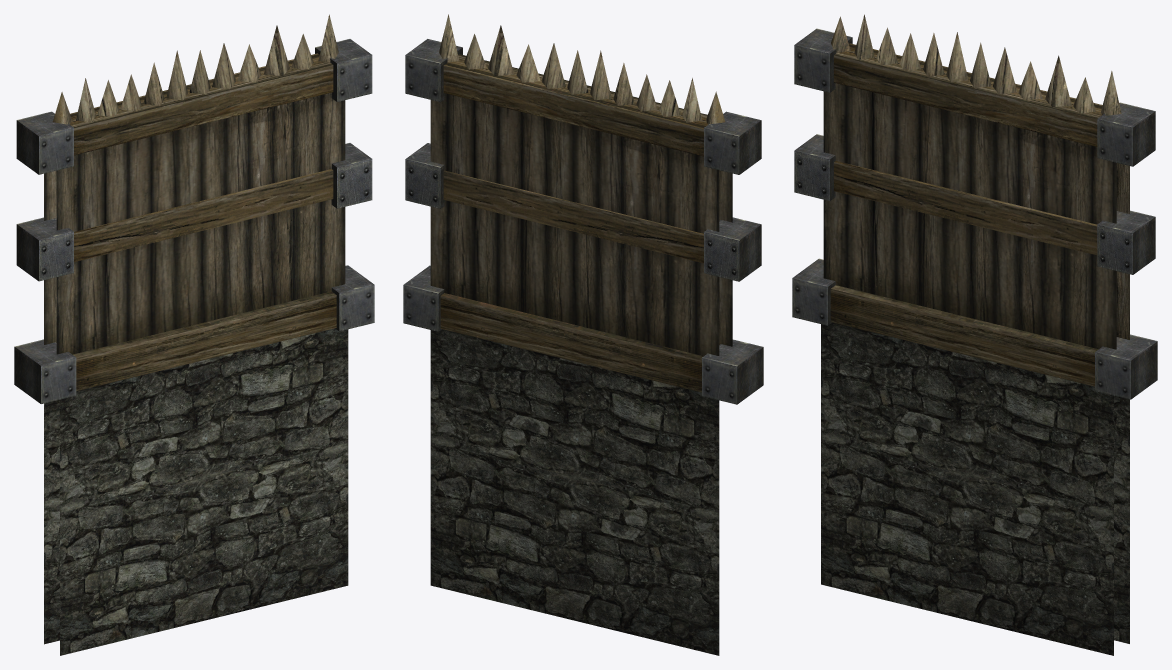
Rendered from fortms_fence_body01.fbx.
3 views of the same model, side by side, from view 1: azimuth 30°, elevation 25°; view 2: azimuth 150°, elevation 25°; view 3: azimuth 330°, elevation 25° (orthographic).
Parts seen in each view (by area): view 1: fortMS_fence_body01; view 2: fortMS_fence_body01; view 3: fortMS_fence_body01.
Part boxes in pixels (box(x1,y1,x2,y2)): fortMS_fence_body01: box(14, 14, 374, 655); fortMS_fence_body01: box(403, 14, 763, 655); fortMS_fence_body01: box(792, 14, 1157, 655).
Size of the model in its own units: 6.82 by 11.13 by 0.9388.
